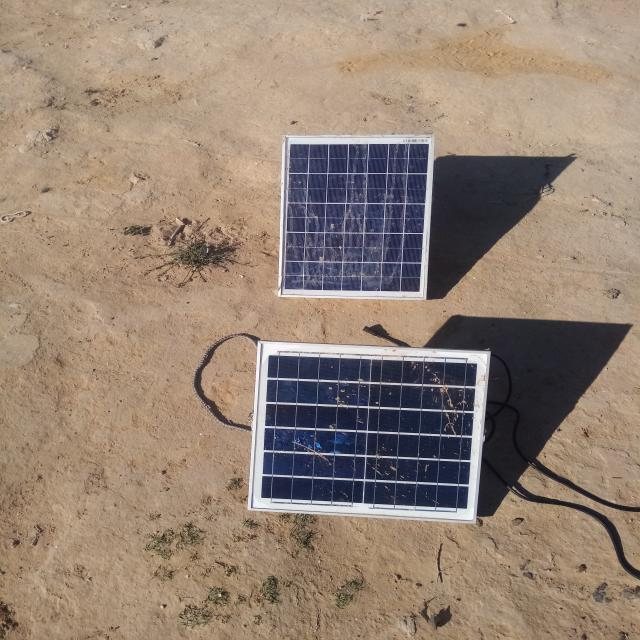faulty: (251, 342, 489, 522), (280, 135, 434, 298)
